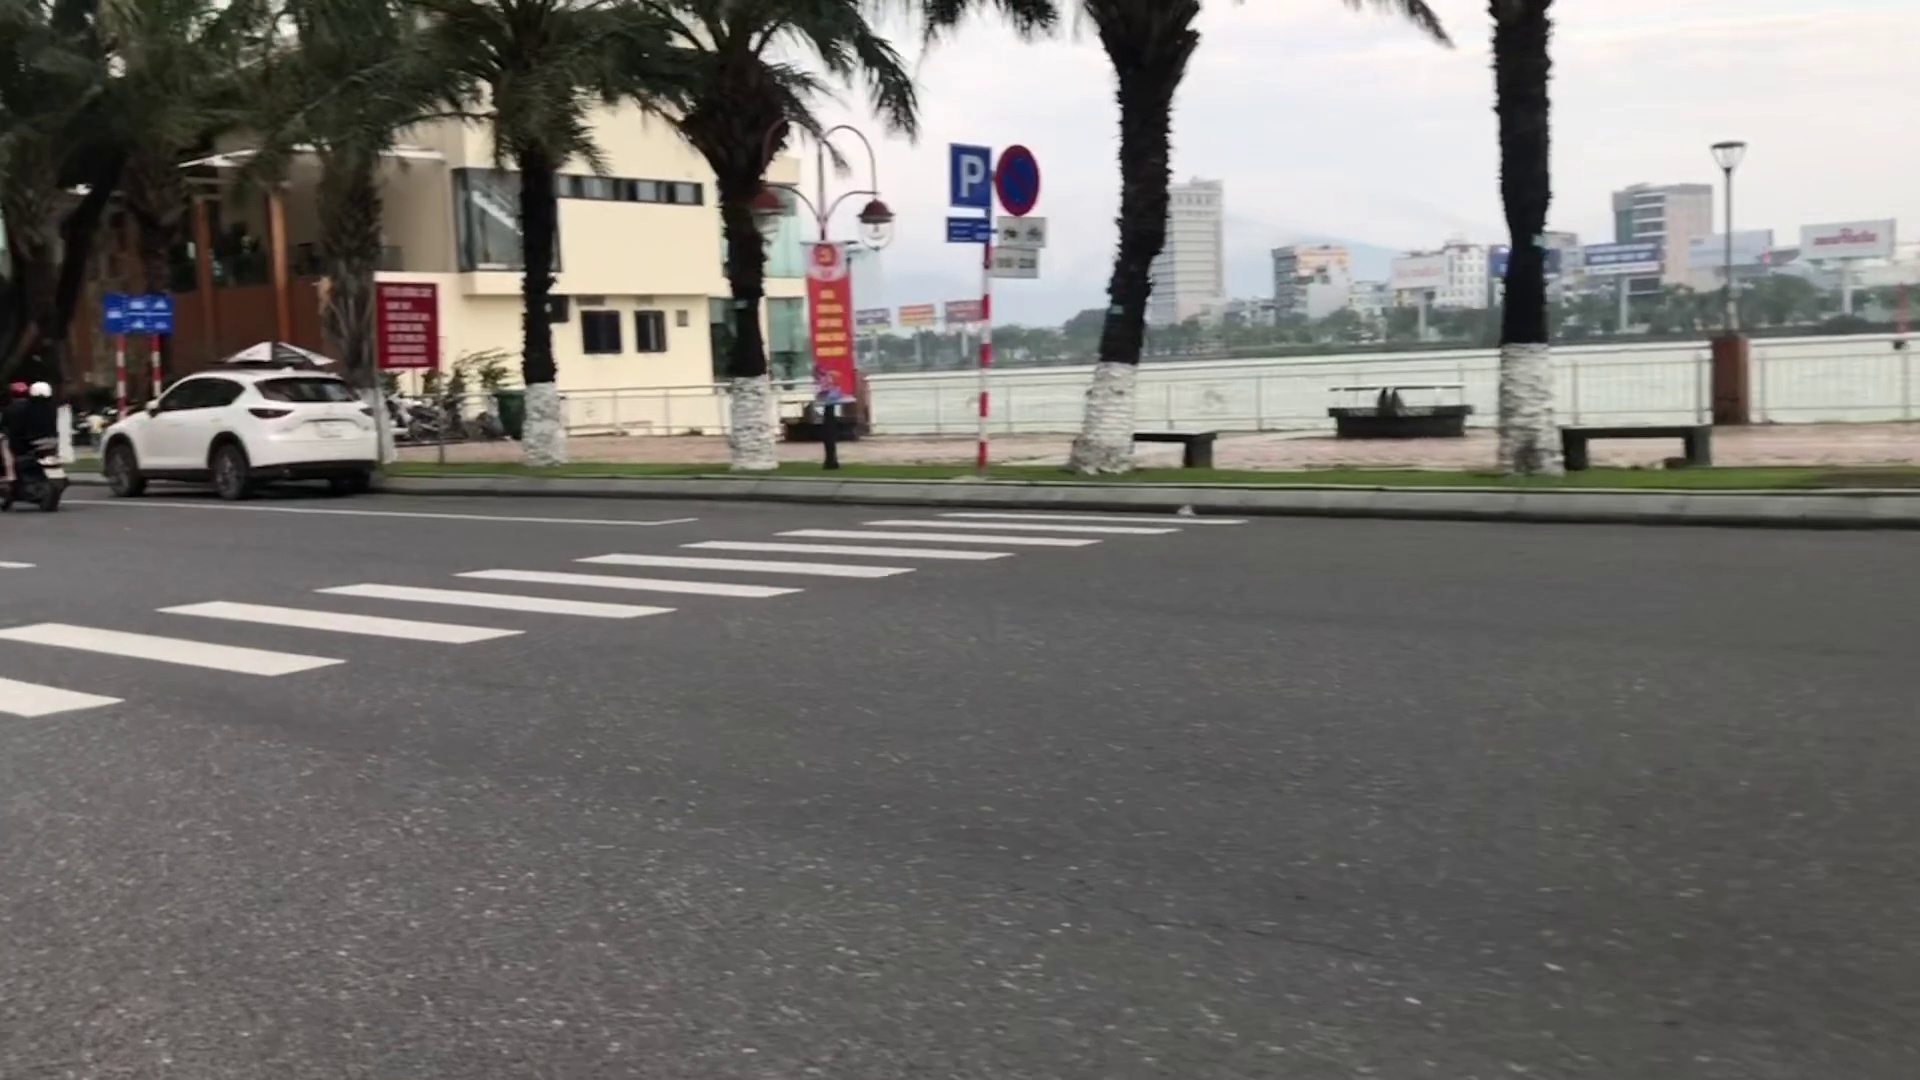Bien khac: (945, 140, 992, 212)
Cam do xe: (992, 141, 1040, 216)
